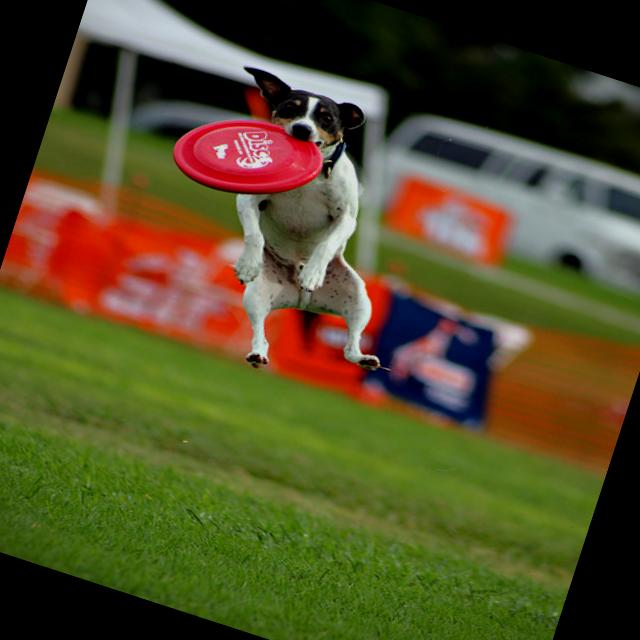Vehicle: (364, 98, 640, 306), (125, 78, 265, 170)
